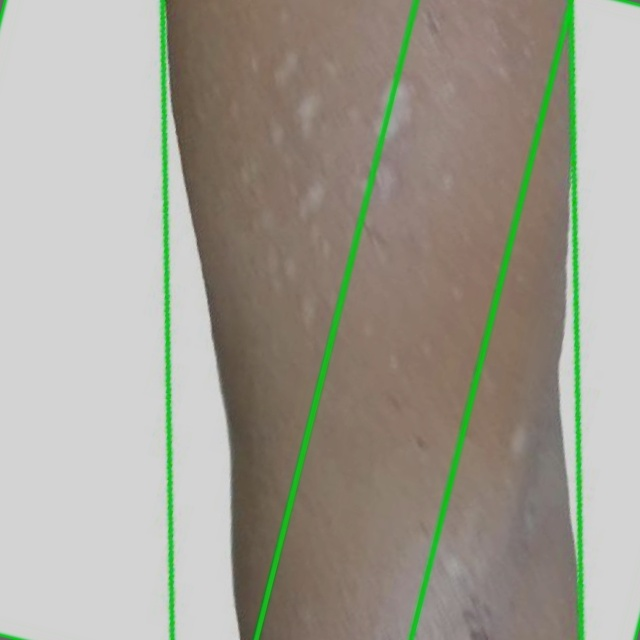Scabies: (0, 0, 416, 639), (164, 0, 576, 639)
